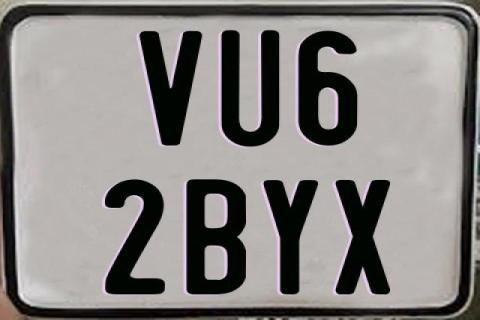0: (102, 178, 167, 298), (296, 30, 362, 148)
B: (184, 177, 246, 293)
U: (219, 28, 283, 144)
V: (136, 29, 203, 144)
X: (333, 180, 392, 294)
Y: (261, 179, 318, 296)
